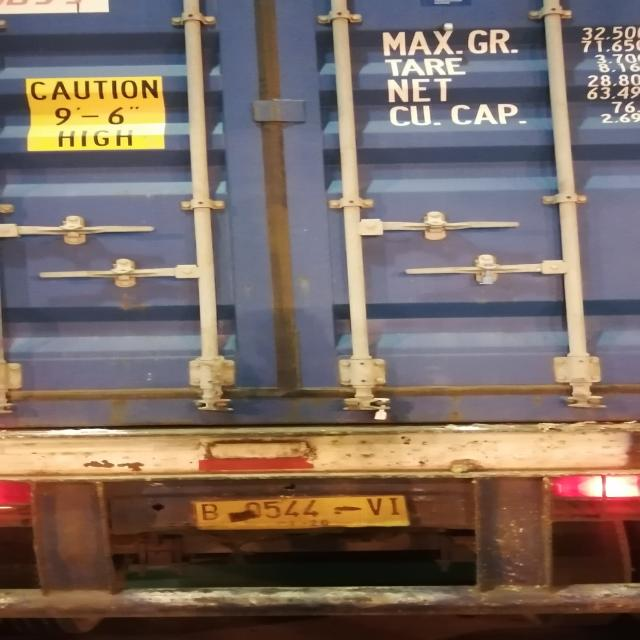seal: (372, 394, 395, 421), (478, 262, 499, 286)
